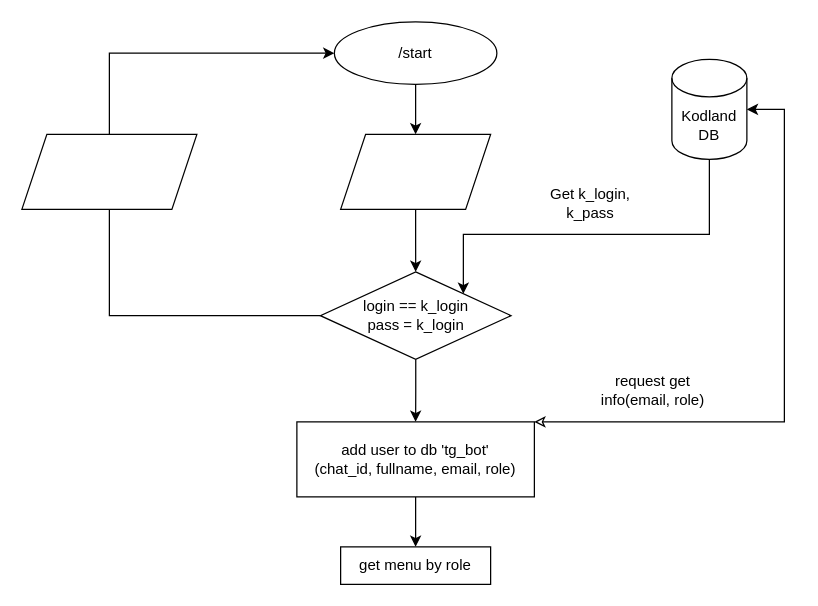
The diagram is 818 pixels wide and 606 high, and some of its shapes have lost their labels. Each missing label, with the centre of its shape:
"kodland login kodland pass" belongs at (x=415, y=171).
"Unsuccessful auth, try again!" belongs at (x=109, y=171).
